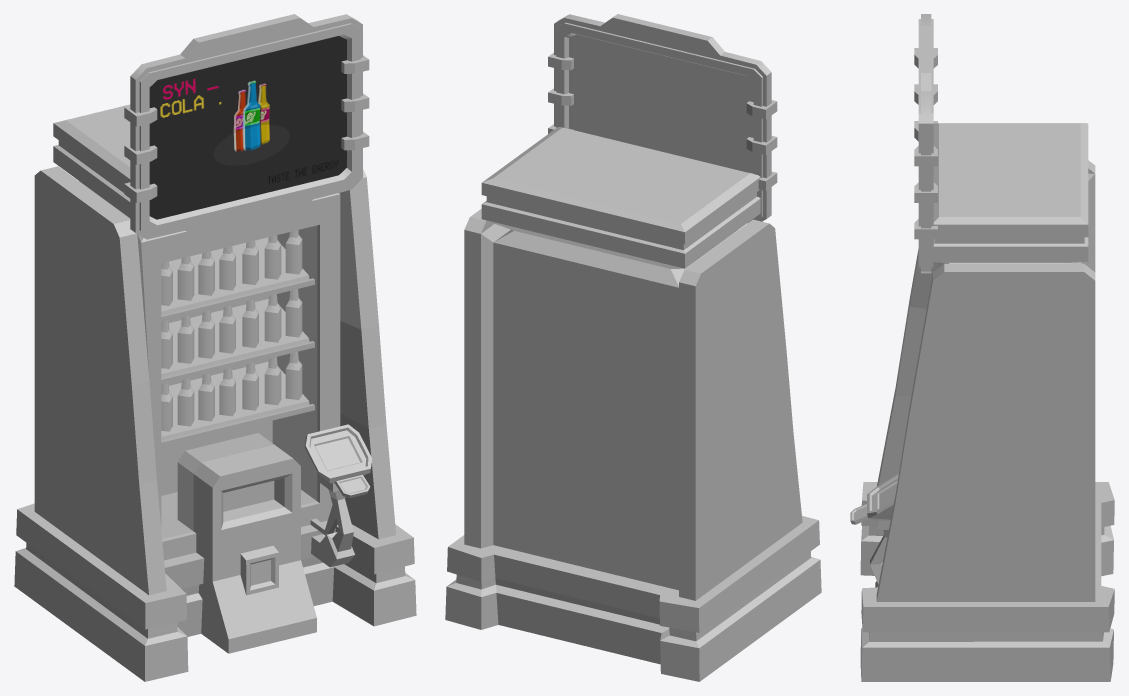
Rendered from SM_Prop_VendingMachine_Soda_01_Modified.fbx.
3 views of the same model, side by side, from view 1: azimuth 30°, elevation 25°; view 2: azimuth 150°, elevation 25°; view 3: azimuth 270°, elevation 25° (orthographic). The views are drawn at different scales.
Visible parts, largest first — view 1: SM_Prop_VendingMachine_Soda_01, SM_Prop_VendingMachine_Soda_01_Glass, SM_Prop_VendingMachine_Soda_01.001; view 2: SM_Prop_VendingMachine_Soda_01; view 3: SM_Prop_VendingMachine_Soda_01.
Boxes of the visible parts, box(x1,y1,x2,y2) form: SM_Prop_VendingMachine_Soda_01: box(14, 14, 416, 681); SM_Prop_VendingMachine_Soda_01_Glass: box(161, 226, 316, 538); SM_Prop_VendingMachine_Soda_01.001: box(149, 36, 346, 219); SM_Prop_VendingMachine_Soda_01: box(445, 14, 821, 681); SM_Prop_VendingMachine_Soda_01: box(850, 14, 1114, 681).
Bounding box in the file's own units: 191 × 400 × 169.
